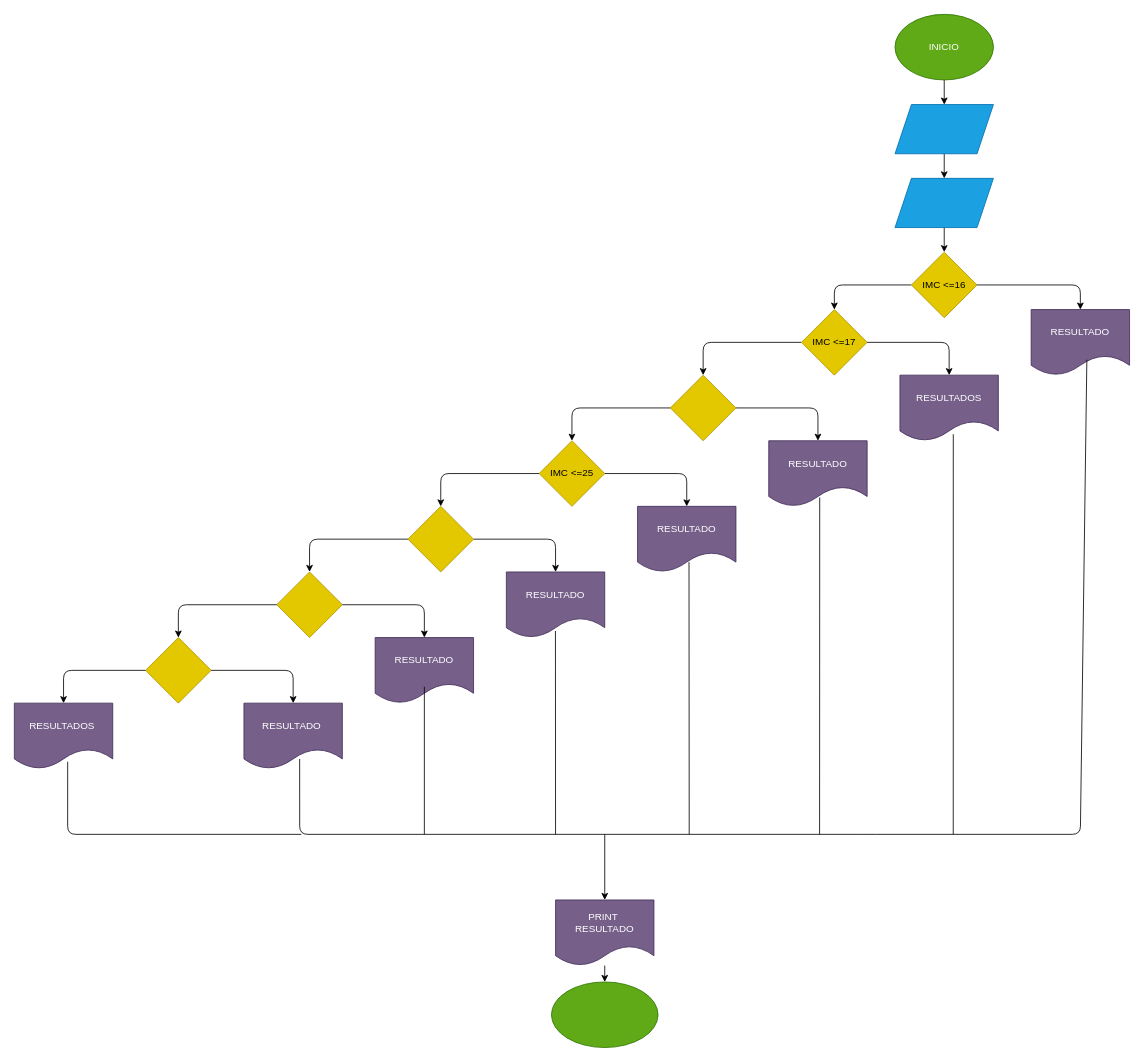
Some shapes in this 1144 by 1062 pixel diagram are drawn without their labels. The centre of each missing label's shape, as x and y in pixels:
"(MC = peso [kg]/ altura2 [m]" belongs at [943,203].
"FIN" belongs at [604,1014].
"IMC <=18" belongs at [703,407].
"IMC <=30" belongs at [440,539].
"IMC <=35" belongs at [309,604].
"IMC <=40" belongs at [178,670].
"PESO, ALTURA" belongs at [943,129].
